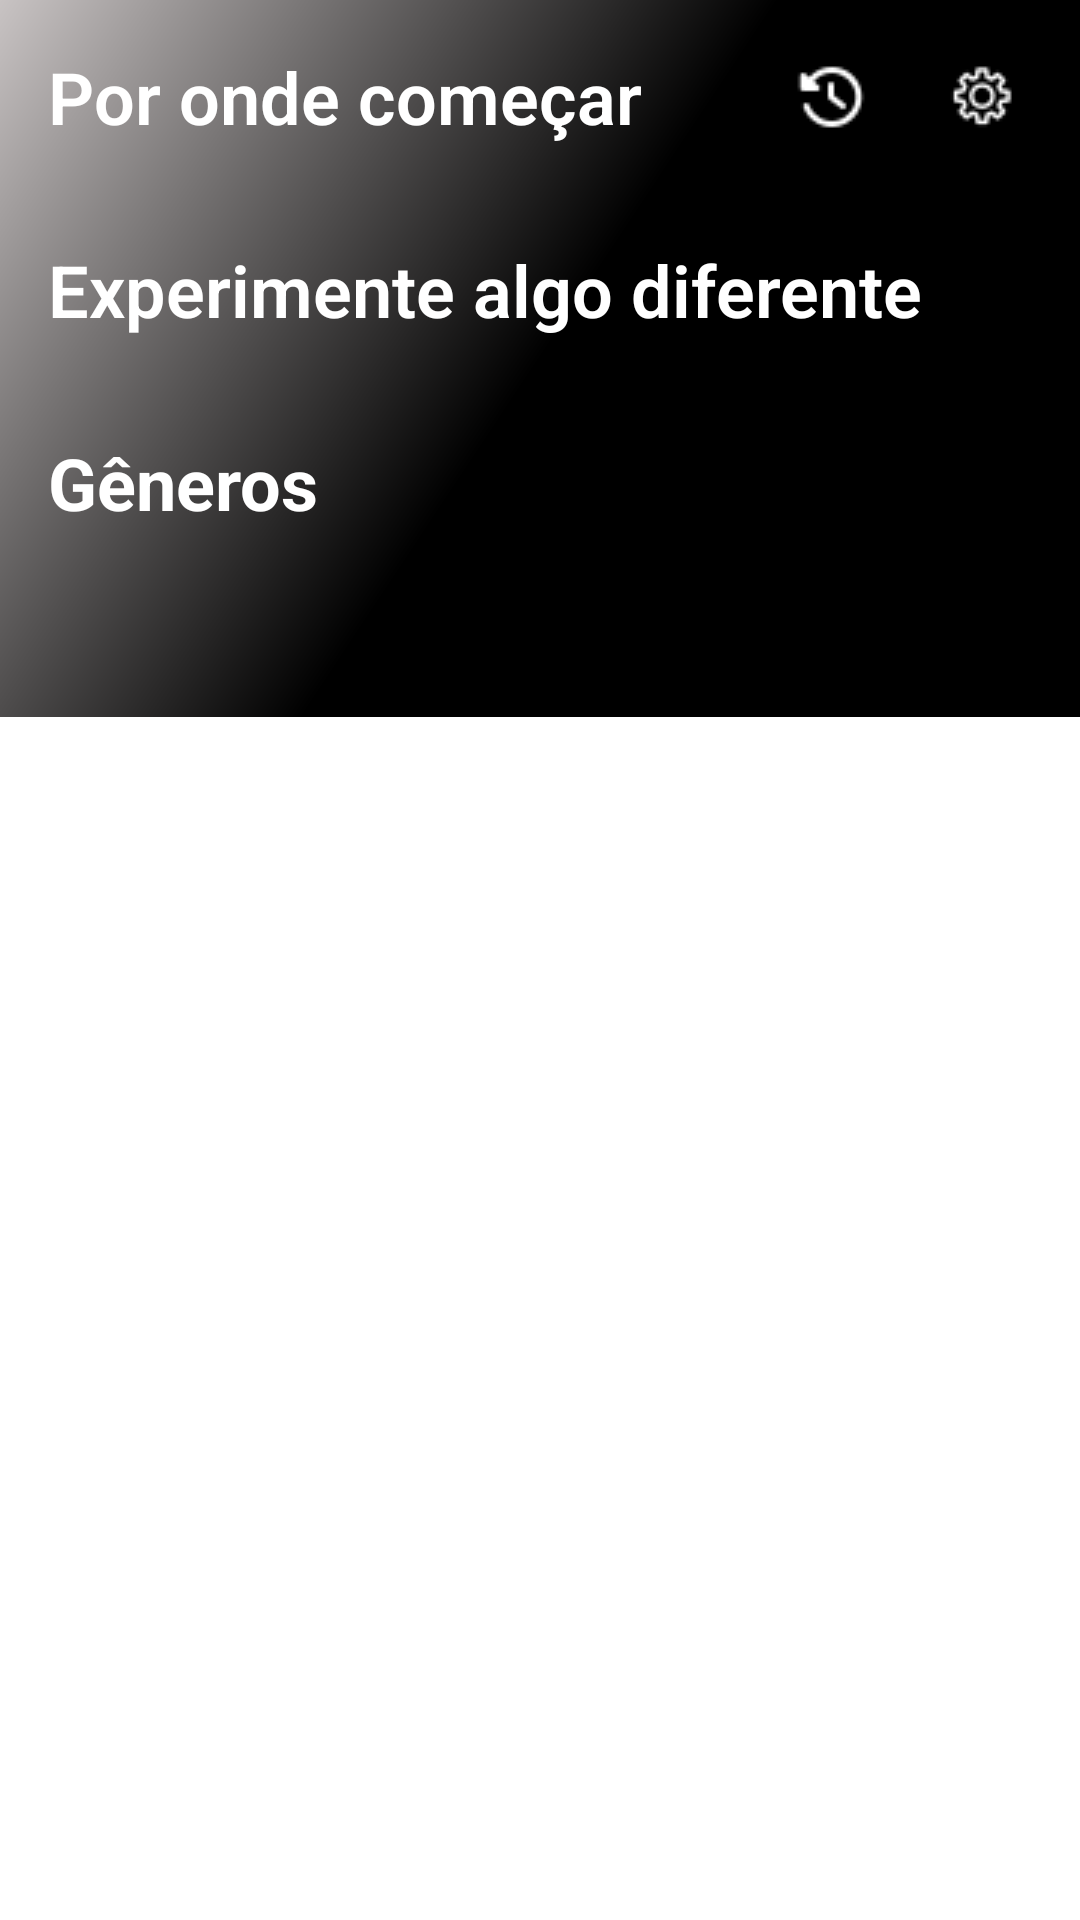

Point at icon controls on the screen. Image size 1080*1920, points as (x,y).
Botão histórico de artistas: (831,97)
Configurações: (982,95)
